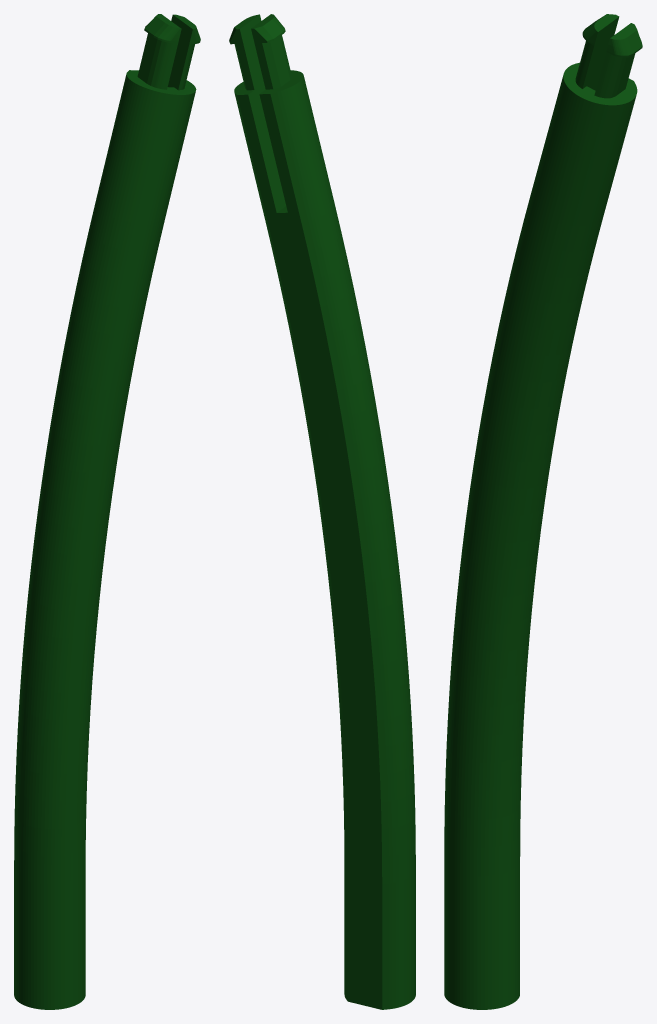
Rendered from stem_3A_15_R.glb.
3 views of the same model, side by side, from view 1: azimuth 30°, elevation 25°; view 2: azimuth 150°, elevation 25°; view 3: azimuth 330°, elevation 25° (orthographic). The views are drawn at different scales.
Visible parts, largest first — view 1: stem_3A_15_R; view 2: stem_3A_15_R; view 3: stem_3A_15_R.
Part boxes in pixels (box(x1,y1,x2,y2)): stem_3A_15_R: box(14, 14, 200, 1009); stem_3A_15_R: box(229, 14, 415, 1009); stem_3A_15_R: box(444, 14, 642, 1009).
Bounding box in the file's own units: 0.0205 × 0.1051 × 0.00666.
